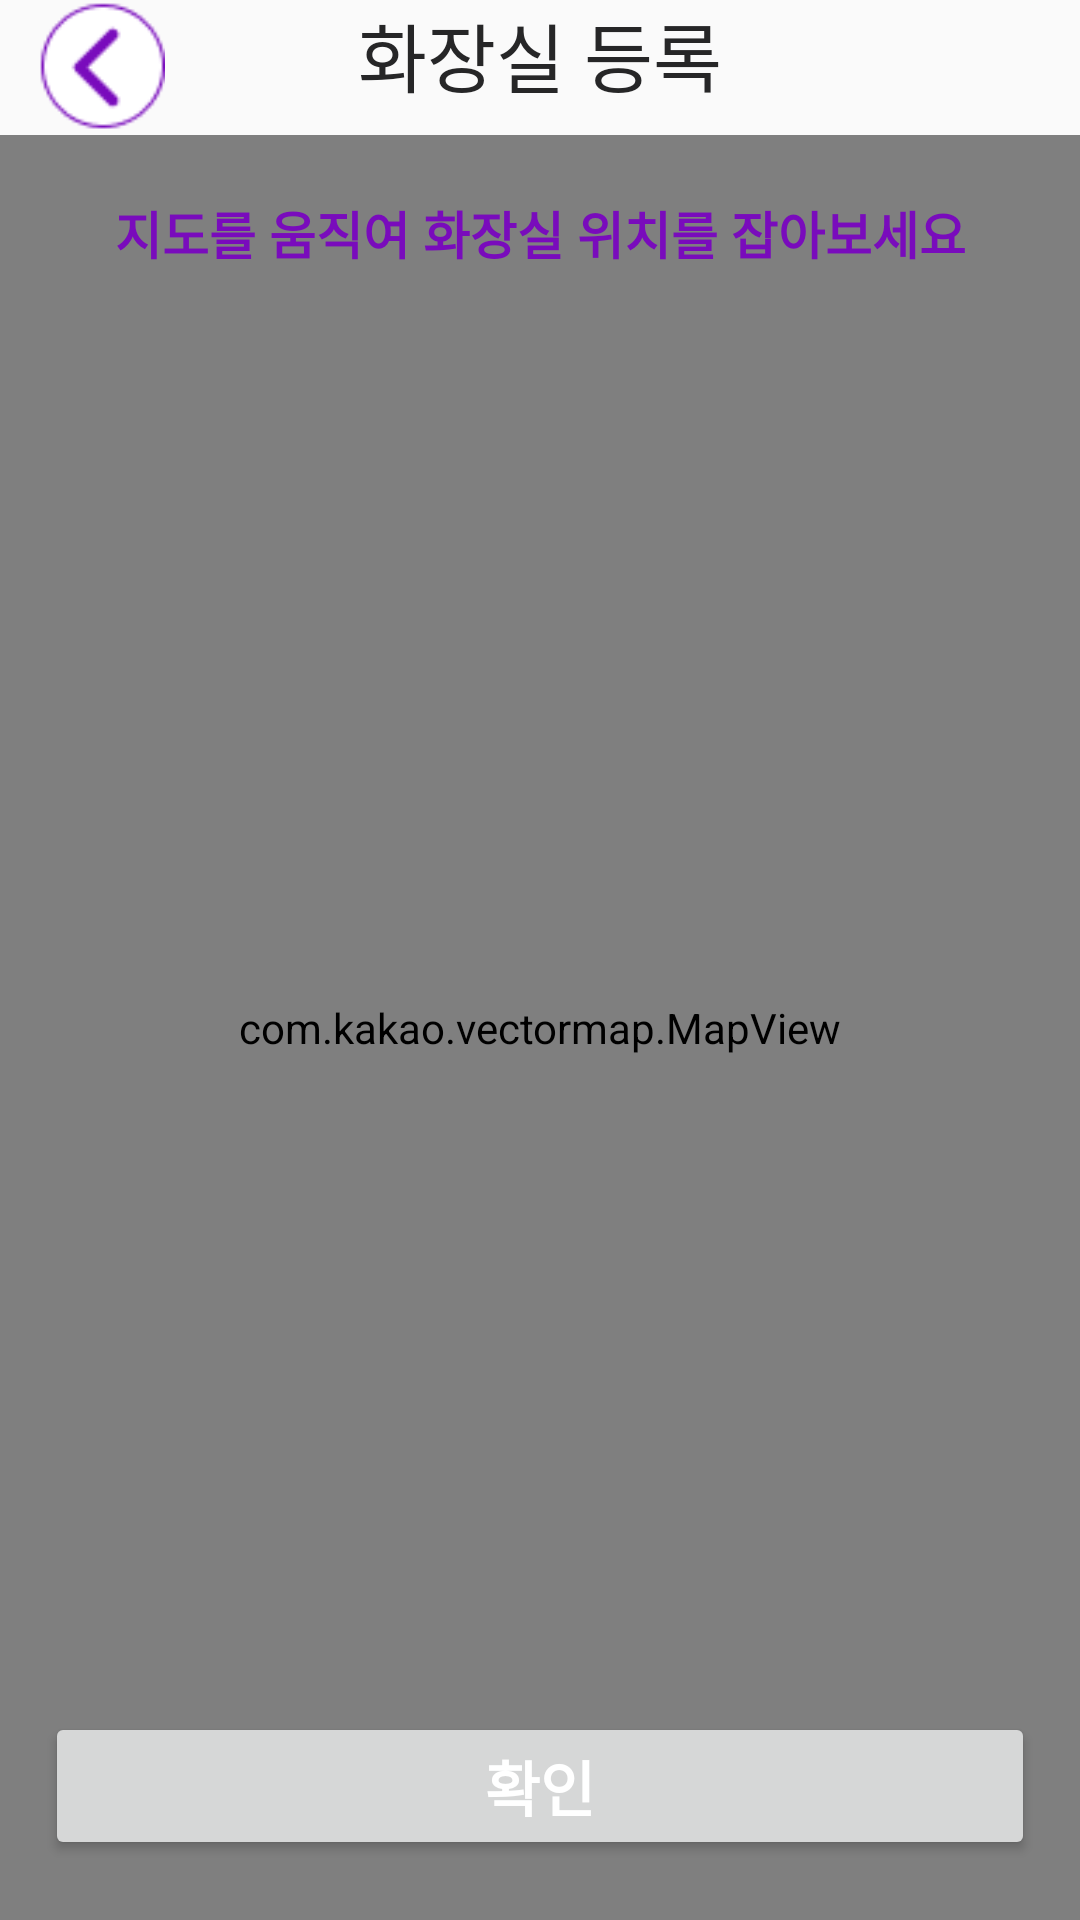

Where icons sit on this 1080 × 1920 app screen, as (x1, y1, x2, y2):
Back Button: (40, 3, 165, 129)
